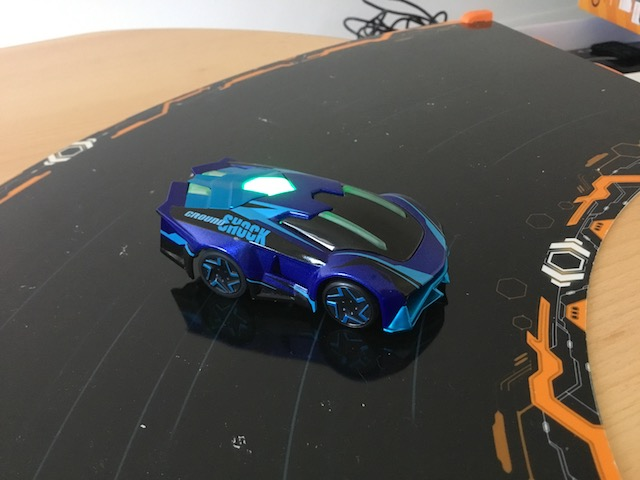car-blue: (151, 151, 454, 342)
